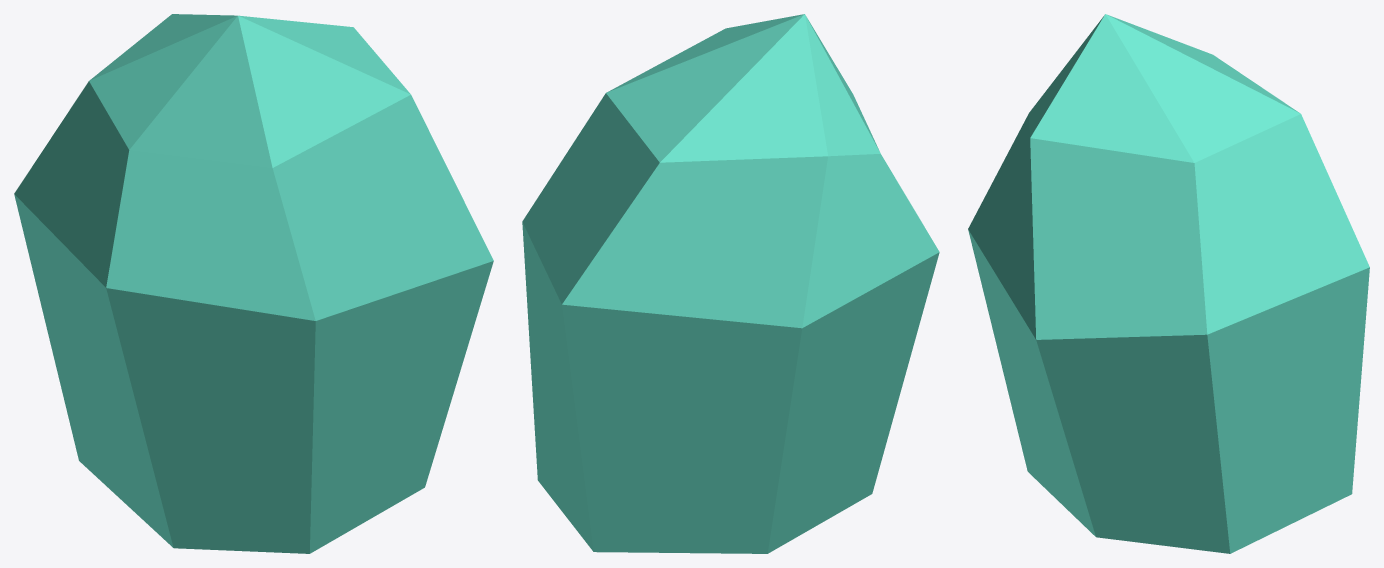
The model's file is Object_teal.gltf.
The picture shows the model from 3 angles, left to right: view 1: azimuth 30°, elevation 25°; view 2: azimuth 150°, elevation 25°; view 3: azimuth 270°, elevation 25°; orthographic projection. The views are drawn at different scales.
Visible parts, largest first — view 1: Plane; view 2: Plane; view 3: Plane.
Part boxes in pixels (x1=…): Plane: x1=14, y1=14, x2=493, y2=553; Plane: x1=522, y1=14, x2=939, y2=553; Plane: x1=968, y1=14, x2=1369, y2=553.
Size of the model in its own units: 4.75 by 5.95 by 4.86.
